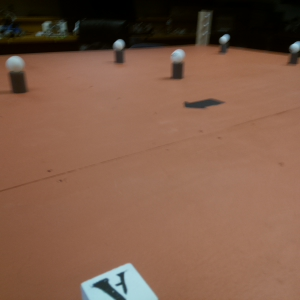blockA: (83, 259, 160, 300)
corner: (195, 11, 212, 48)
obstacle: (7, 52, 27, 96), (167, 48, 186, 84), (112, 38, 128, 69), (286, 42, 300, 65), (220, 35, 229, 57)
start: (183, 93, 224, 117)
